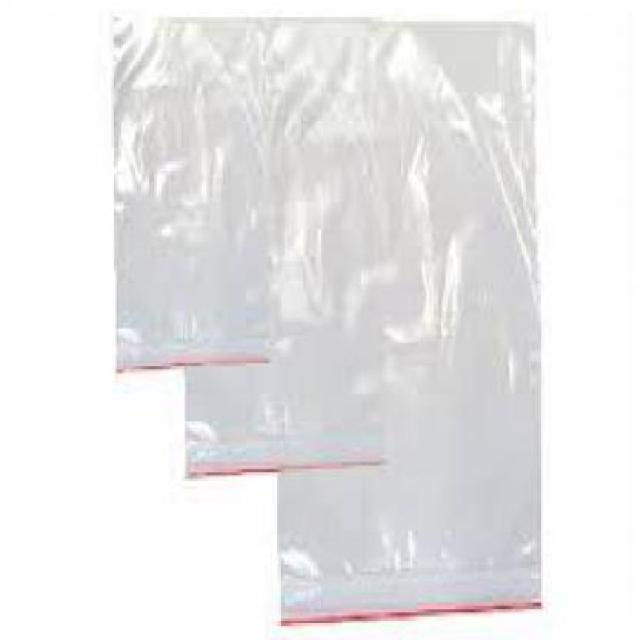PLASTIC: (275, 28, 540, 637), (179, 21, 401, 485), (106, 17, 268, 377)
